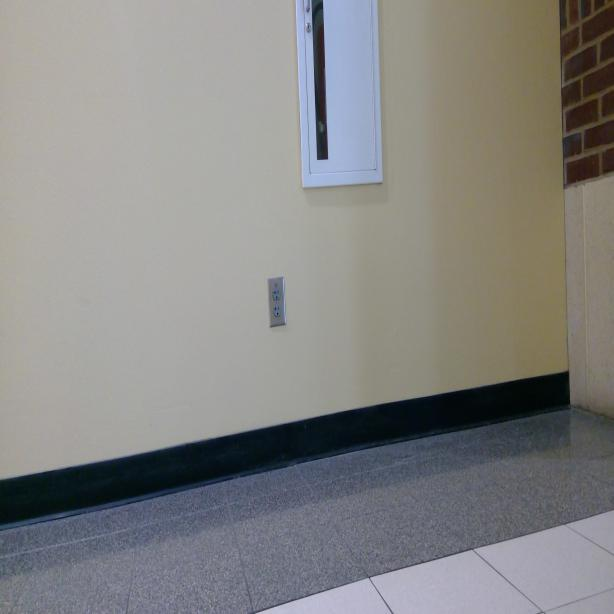typeb: (272, 288, 280, 300), (274, 303, 281, 316)
